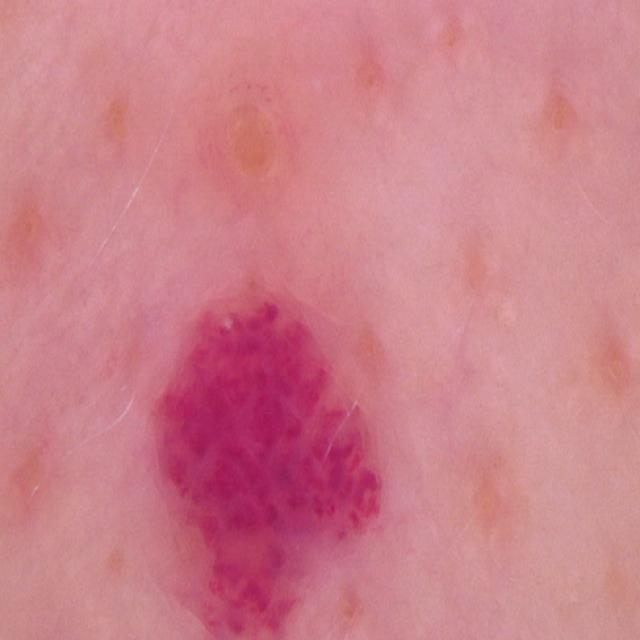Vascular Lesions: (117, 281, 427, 640)
